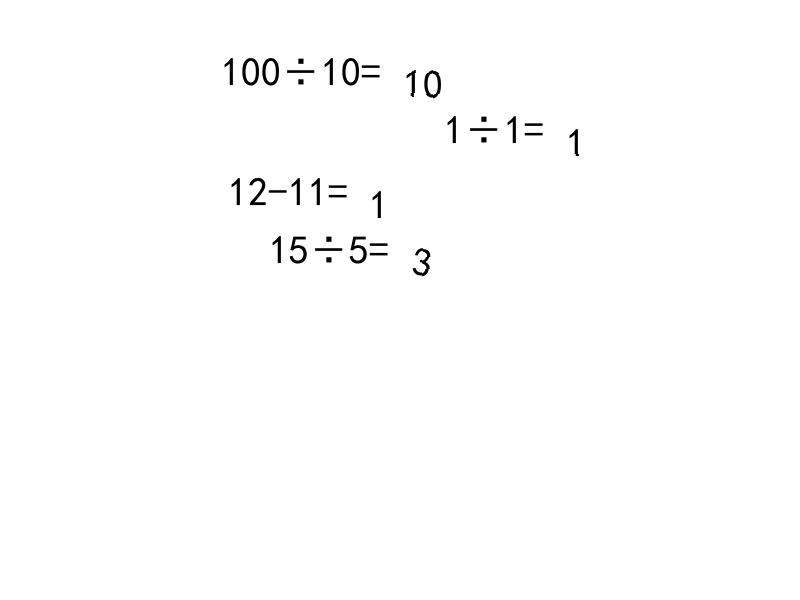-: (268, 171, 288, 200)
0: (241, 51, 261, 80), (261, 51, 281, 80), (341, 51, 361, 80), (411, 51, 431, 80)
1: (221, 51, 241, 80), (321, 51, 341, 80), (391, 51, 411, 80), (228, 171, 248, 200), (288, 171, 308, 200), (308, 171, 328, 200), (358, 171, 378, 200), (444, 109, 464, 137), (504, 109, 524, 137), (554, 109, 574, 137), (269, 229, 289, 257)
2: (248, 171, 268, 200)
3: (399, 229, 419, 257)
5: (289, 229, 309, 257), (349, 229, 369, 257)
=: (361, 51, 381, 80), (328, 171, 348, 200), (524, 109, 544, 137), (369, 229, 389, 257)
÷: (281, 51, 321, 80), (464, 109, 504, 137), (309, 229, 349, 257)
